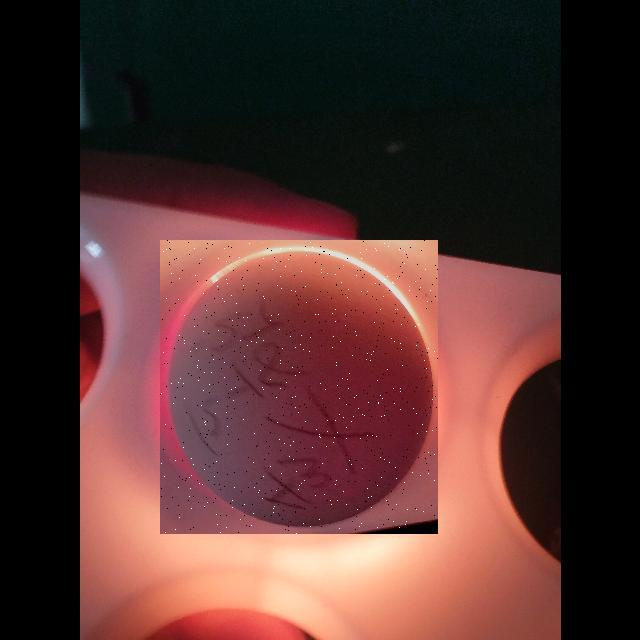Fertile: (160, 240, 438, 534)
